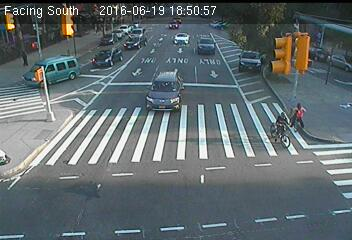neg: (263, 108, 294, 149), (157, 59, 173, 80), (119, 63, 134, 84)
pos: (283, 94, 312, 132), (13, 45, 31, 68)
